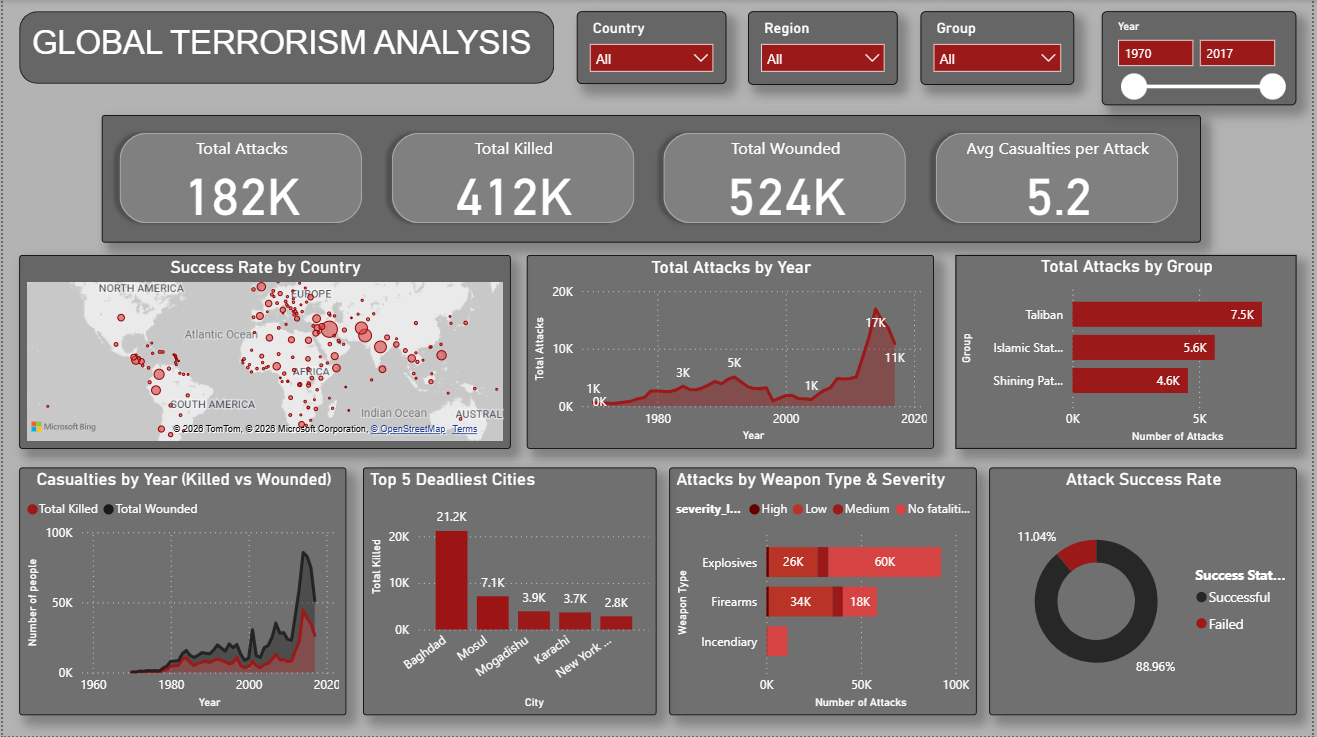

This screenshot's page, from the dashboard's own definition file:
{"tool":"powerbi","page":{"name":"terrorism","canvas":[1280,720],"ordinal":0},"visuals":[{"type":"shape","box":[15.9,11,523.4,70.9],"z":0},{"type":"textbox","box":[19.6,19.6,514.8,53.8],"z":1000},{"type":"cardVisual","fields":{"Data":["public terrorism.Total Attacks","Sum(public terrorism.nkill)","Sum(public terrorism.nwound)","public terrorism.Avg Casualties"]},"box":[96,112.5,1074.9,124.7],"z":2000},{"type":"slicer","fields":{"Values":["public terrorism.country_txt"]},"box":[561.3,11,146.7,70.9],"z":3000},{"type":"slicer","fields":{"Values":["public terrorism.region_txt"]},"box":[728.8,11,146.7,72.1],"z":4000},{"type":"slicer","fields":{"Values":["public terrorism.iyear"]},"box":[1074.9,11,190.8,91.7],"z":5000},{"type":"slicer","fields":{"Values":["public terrorism.gname"]},"box":[897.6,11,150.4,72.1],"z":6000},{"type":"stackedAreaChart","title":"Casualties by Year (Killed vs Wounded)","fields":{"Category":["public terrorism.iyear"],"Y":["public terrorism.Total Killed","public terrorism.Total Wounded"]},"box":[15.9,457.3,320.4,242.1],"z":7000},{"type":"areaChart","title":"Total Attacks by Year","fields":{"Category":["public terrorism.iyear"],"Y":["public terrorism.Total Attacks"]},"box":[512.4,249.5,398.6,189.5],"z":8000},{"type":"clusteredBarChart","title":"Total Attacks by Group","fields":{"Category":["public terrorism.gname"],"Y":["public terrorism.Total Attacks"]},"box":[931.8,249.5,333.8,189.5],"z":9000},{"type":"barChart","title":"Attacks by Weapon Type & Severity","fields":{"Category":["public terrorism.weaptype1_txt"],"Y":["CountNonNull(public terrorism.eventid)"],"Series":["public terrorism.severity_level"]},"box":[651.8,457.3,300.8,242.1],"z":10000},{"type":"donutChart","title":"Attack Success Rate","fields":{"Y":["CountNonNull(public terrorism.eventid)"],"Category":["public terrorism.Success Status"]},"box":[964.8,457.3,300.8,242.1],"z":11000},{"type":"clusteredColumnChart","title":"Top 5 Deadliest Cities","fields":{"Category":["public terrorism.city"],"Y":["public terrorism.Total Killed"]},"box":[352.2,457.3,287.4,242.1],"z":12000},{"type":"map","title":"Success Rate by Country","fields":{"Category":["public terrorism.country_txt"],"Size":["public terrorism.Total Attacks"]},"box":[15.9,249.5,480.6,189.5],"z":13000}]}

Visuals, with their boxes in screenshot pixels (x1, y1, x2, y2), scaled from the page's 1280x720 canvas onto the 1317x737 screenshot:
shape: BBox(16, 11, 555, 84)
textbox: BBox(20, 20, 550, 75)
cardVisual - public terrorism.Total Attacks x Sum(public terrorism.nkill): BBox(99, 115, 1205, 243)
slicer - public terrorism.country_txt: BBox(578, 11, 728, 84)
slicer - public terrorism.region_txt: BBox(750, 11, 901, 85)
slicer - public terrorism.iyear: BBox(1106, 11, 1302, 105)
slicer - public terrorism.gname: BBox(924, 11, 1078, 85)
"Casualties by Year (Killed vs Wounded)" stackedAreaChart: BBox(16, 468, 346, 716)
"Total Attacks by Year" areaChart: BBox(527, 255, 937, 449)
"Total Attacks by Group" clusteredBarChart: BBox(959, 255, 1302, 449)
"Attacks by Weapon Type & Severity" barChart: BBox(671, 468, 980, 716)
"Attack Success Rate" donutChart: BBox(993, 468, 1302, 716)
"Top 5 Deadliest Cities" clusteredColumnChart: BBox(362, 468, 658, 716)
"Success Rate by Country" map: BBox(16, 255, 511, 449)
